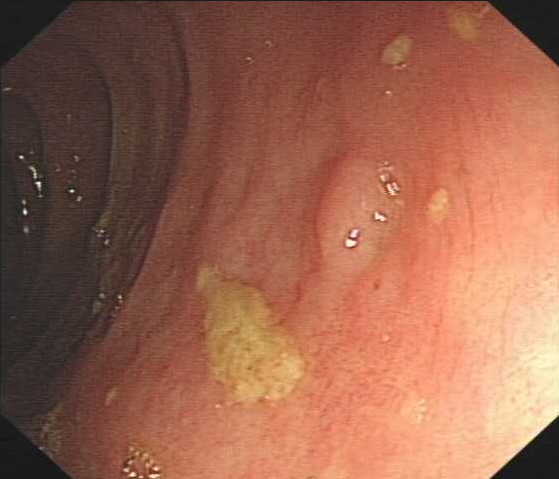others: (311, 152, 404, 277)
